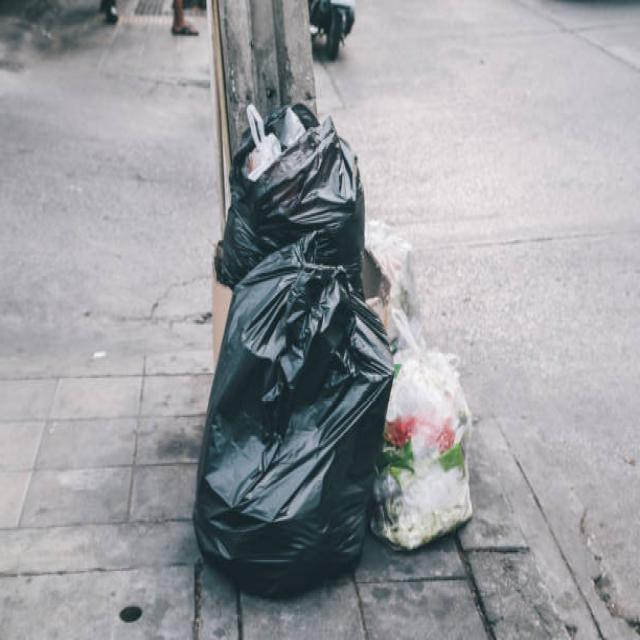Trashbag: (185, 264, 391, 578), (212, 118, 364, 279)
